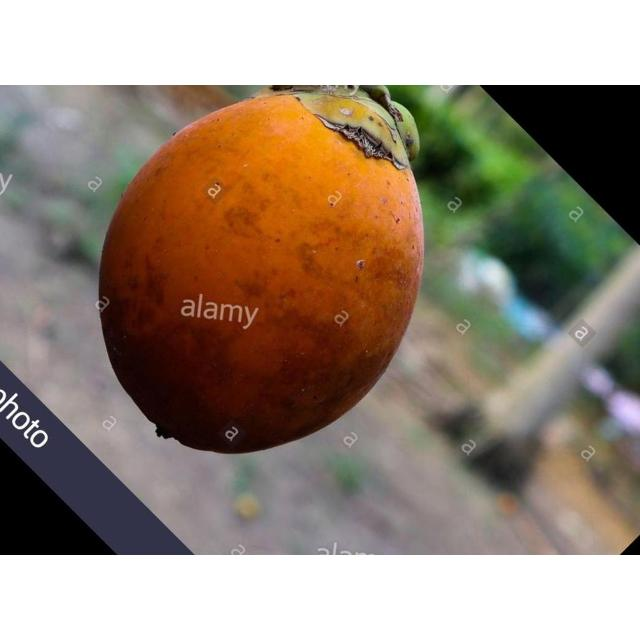good: (96, 85, 424, 457)
